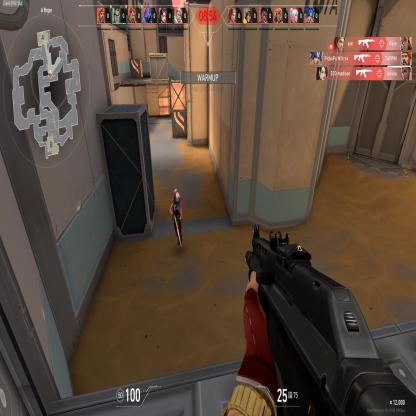enemy: (168, 186, 182, 248)
